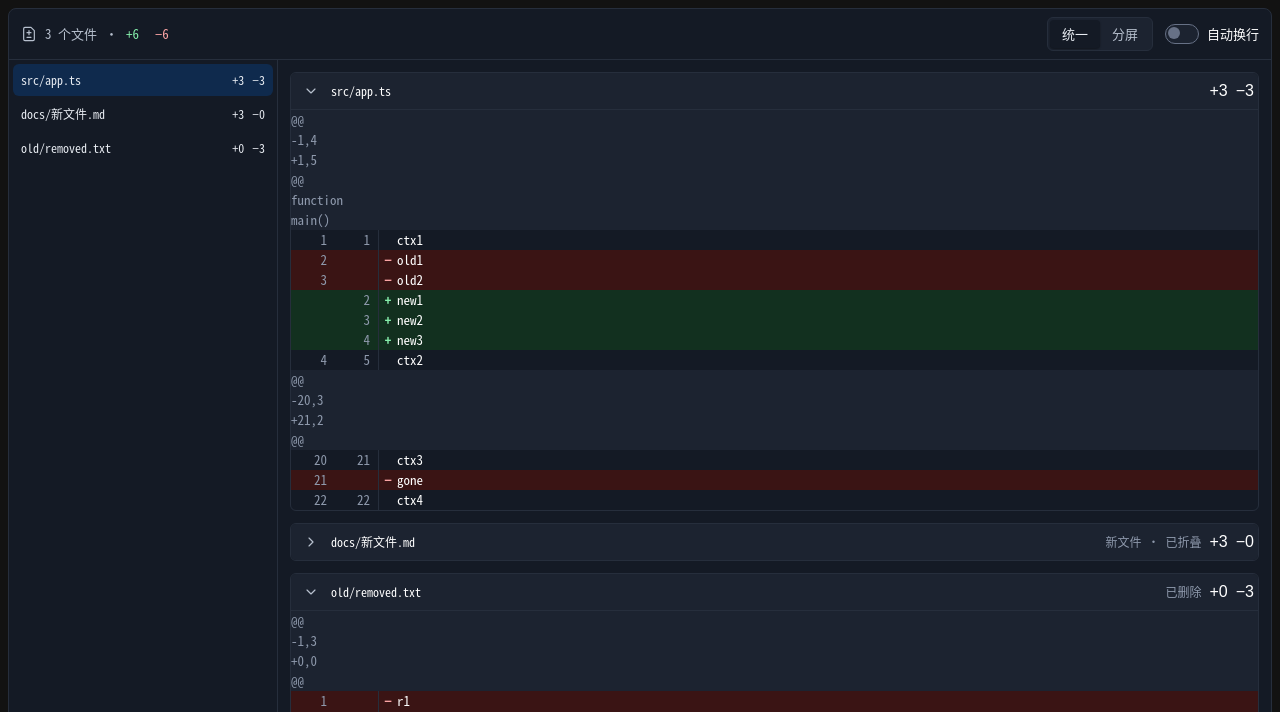
折叠、当前文件与补丁变化 › 点列表项：设为当前、折叠着就展开、焦点移到文件头
Click the button with class "tt-diff__file-item" showing "docs/新文件.md +3 −0": point(63, 114) x1=13 y1=98 x2=273 y2=130
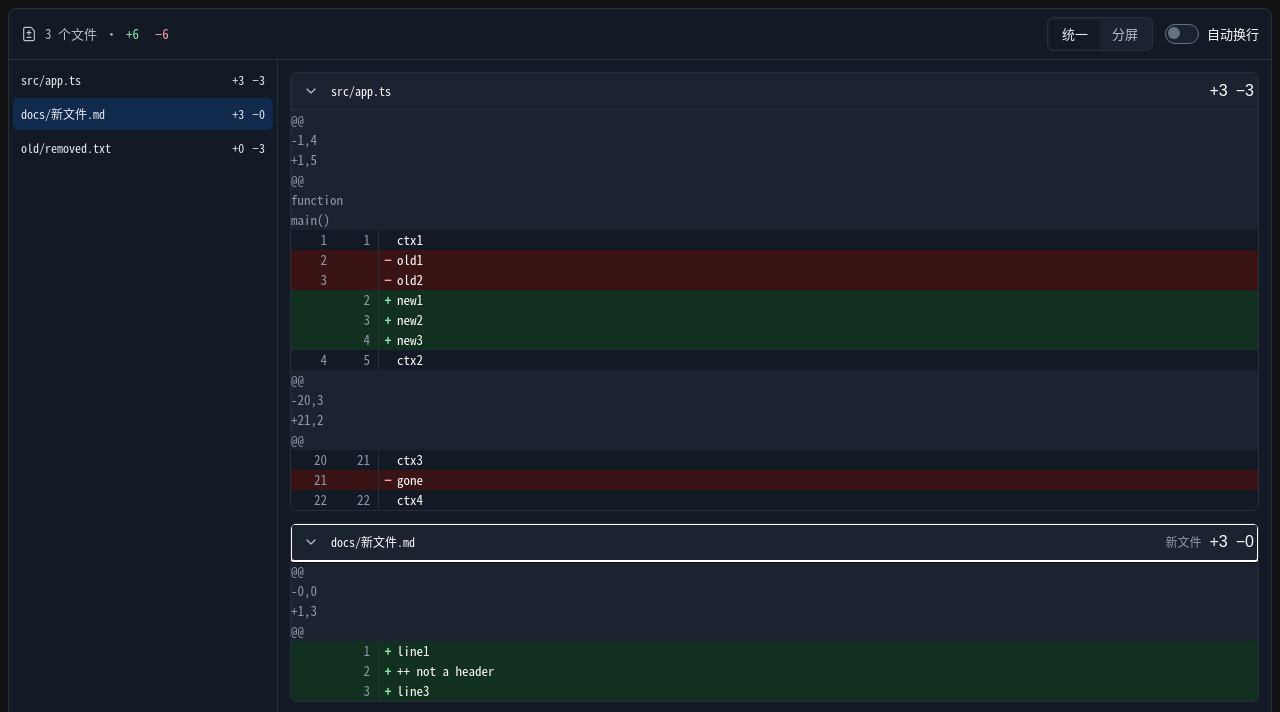
Expected: the 2nd button named "折叠" is expanded, x1=299 y1=530 x2=323 y2=554
